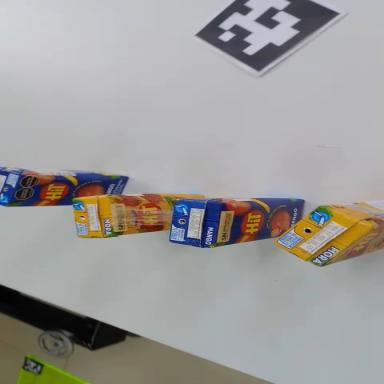HIT-MANGO: (169, 195, 306, 249), (0, 167, 129, 213)
HIT-MORA: (269, 189, 384, 278), (73, 190, 204, 240)
cara_F: (207, 189, 309, 248), (108, 185, 208, 237), (7, 173, 130, 207), (316, 224, 384, 267)
